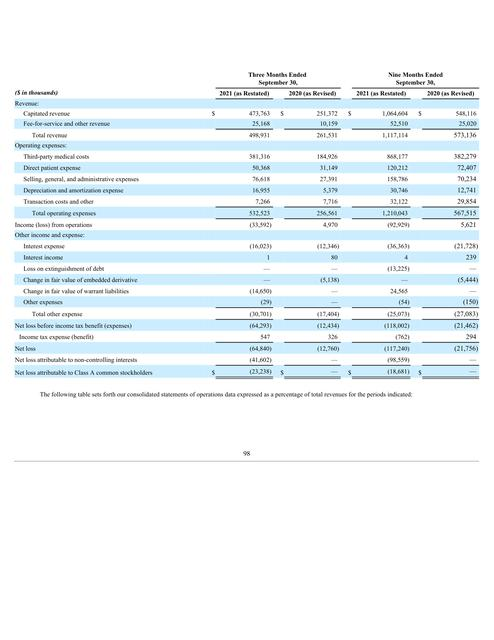box: (13, 71, 484, 381)
